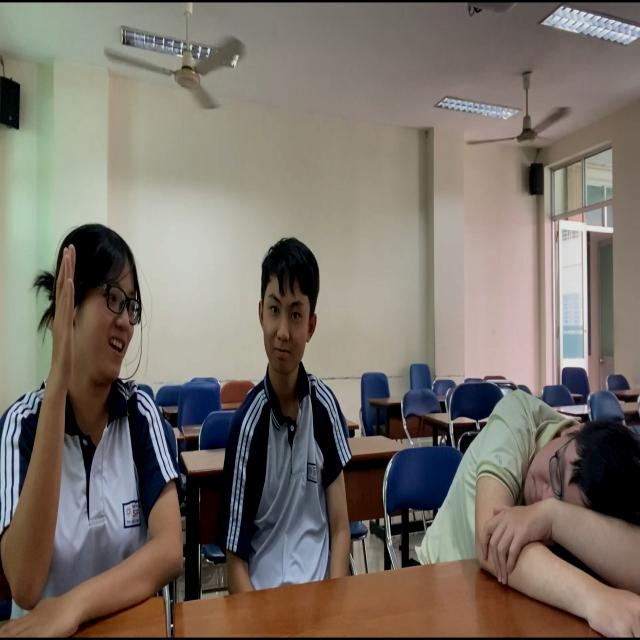raise_hand: (1, 209, 198, 640)
sleep: (419, 381, 640, 623)
